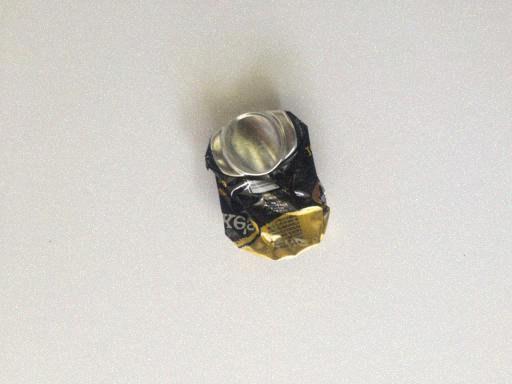metal: (203, 111, 331, 264)
